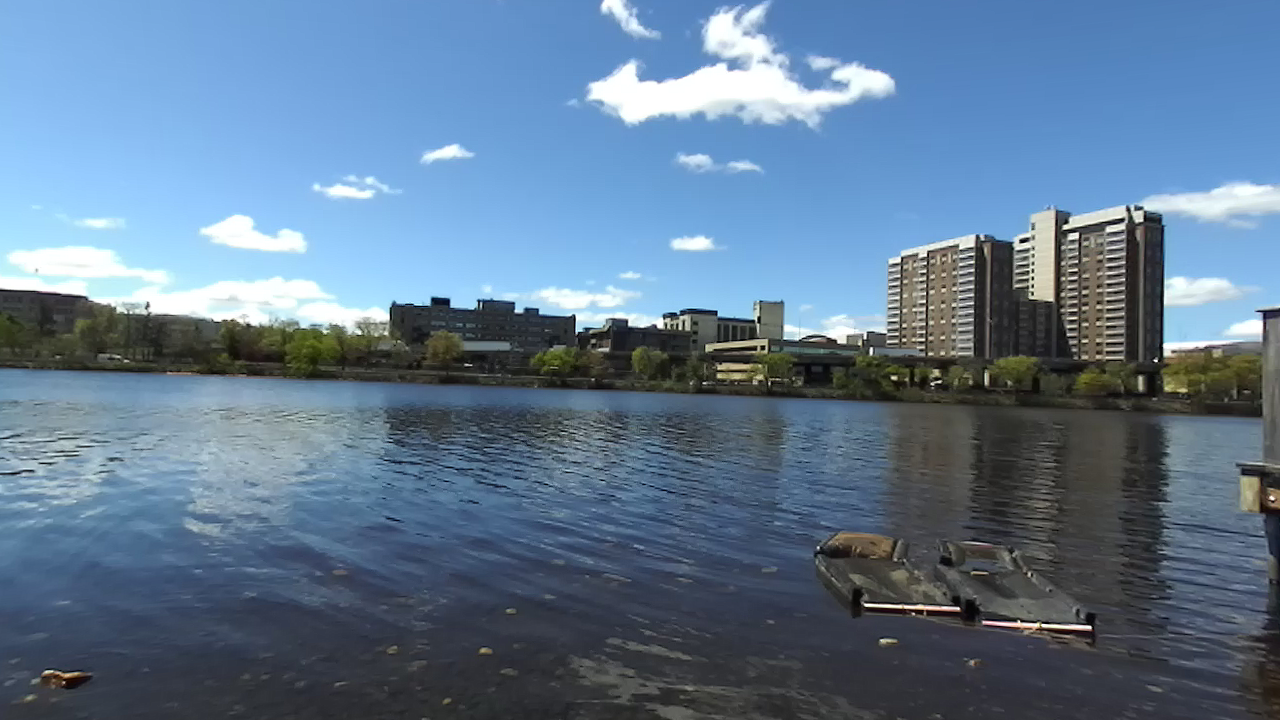bag: (937, 567, 1097, 637), (816, 560, 959, 618), (814, 529, 908, 559), (935, 537, 1026, 567)
